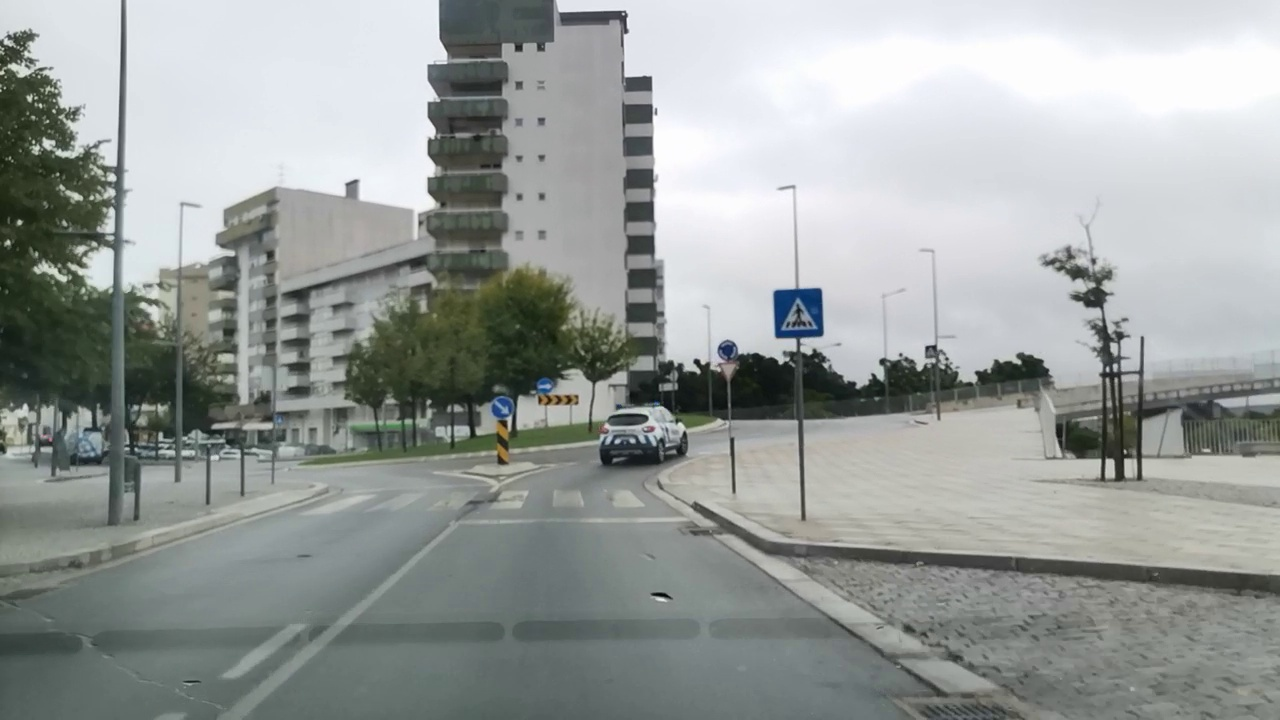Stairs: (304, 486, 652, 513)
